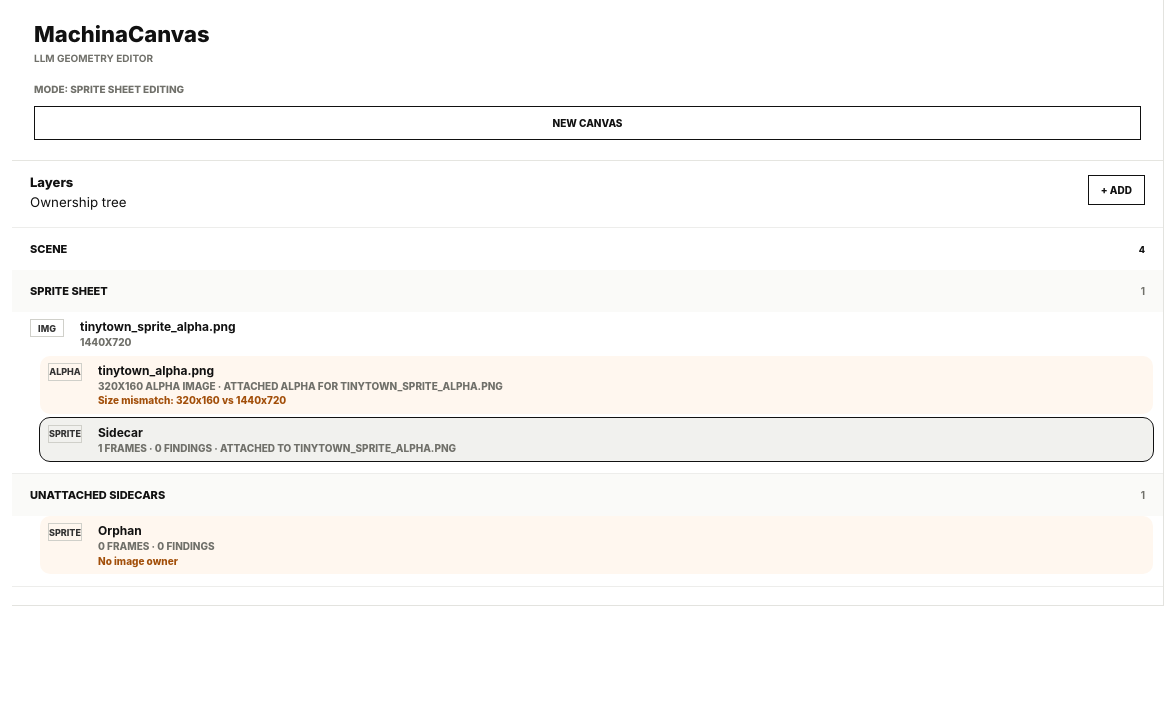
Test: MachinaCanvas layer panel › opens the add menu and lists the existing add actions
Click the button "+ Add".
click(1116, 190)  # box x1=1088 y1=175 x2=1145 y2=205
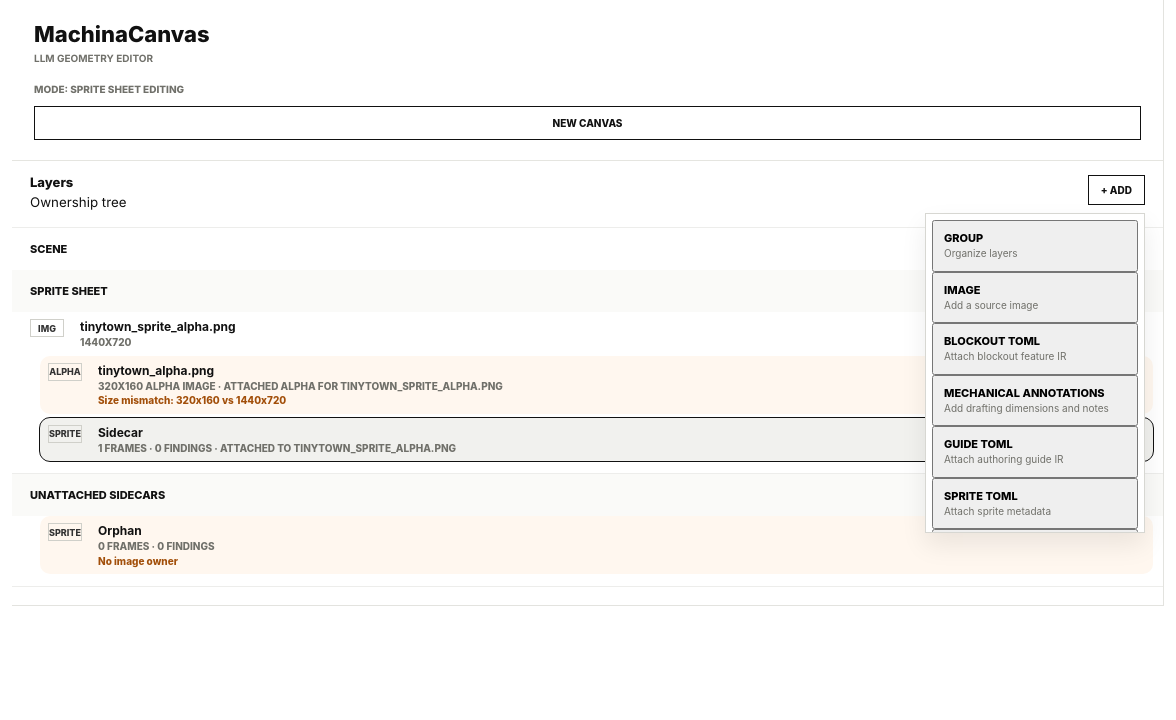
Check: the menu is shown, box x1=925 y1=213 x2=1145 y2=533
Check: the menu item named "GroupOrganize layers" is shown, box x1=932 y1=220 x2=1138 y2=272
Check: the menu item named "ImageAdd a source image" is shown, box x1=932 y1=272 x2=1138 y2=323
